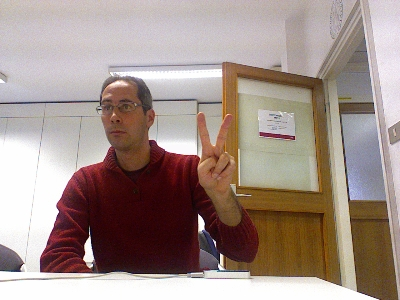剪刀: (194, 110, 238, 194)
